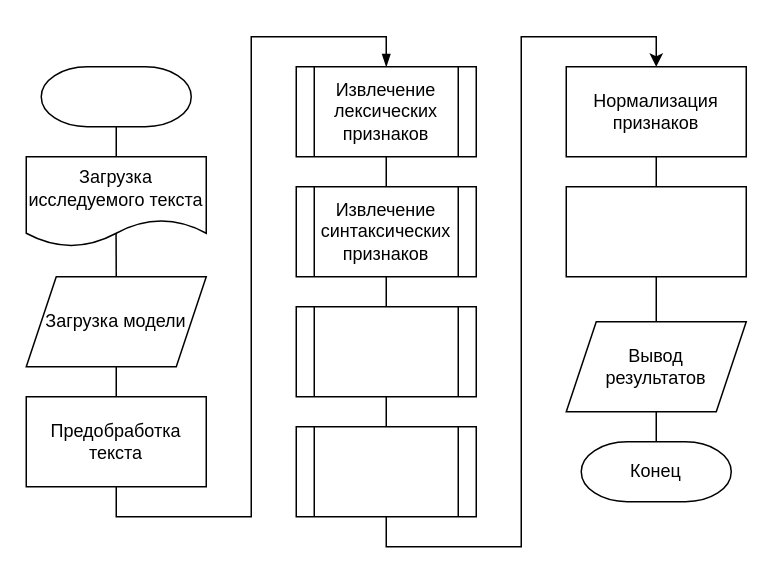
Some shapes in this 773 by 585 pixel diagram are drawn without their labels. Each missing label, with the centre of its shape:
"Извлечение семантических признаков" belongs at (x=385, y=351).
"Извлечение стилистических признаков" belongs at (x=385, y=471).
"Начало" belongs at (x=115, y=96).
"Формирование итоговой оценки" belongs at (x=655, y=231).
